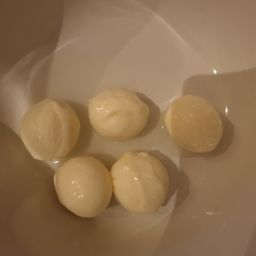Mini Mozzarella Cheese: (4, 71, 164, 222), (101, 149, 185, 220), (5, 95, 84, 164), (49, 154, 118, 232), (164, 78, 232, 157), (80, 82, 155, 149)
